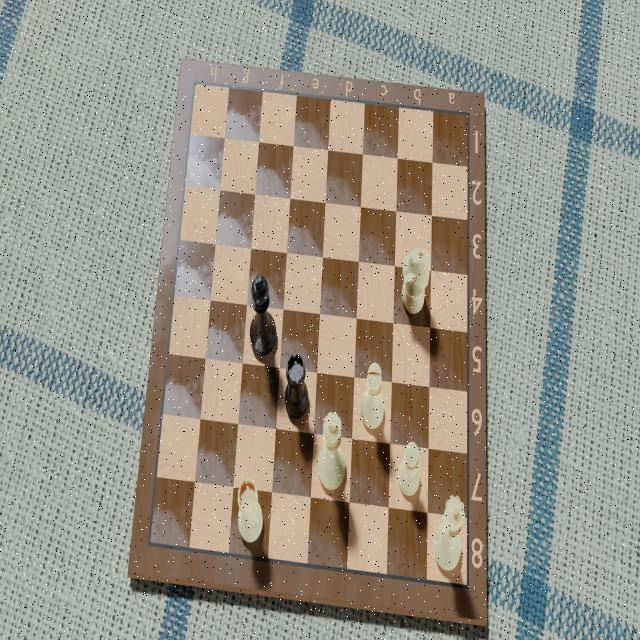black-king: (246, 271, 277, 360)
black-rook: (282, 352, 310, 420)
white-bishop: (360, 357, 388, 435)
white-king: (313, 408, 346, 496)
white-knight: (400, 243, 432, 320)
white-pawn: (396, 436, 424, 499)
white-queen: (433, 492, 468, 580)
white-rook: (233, 476, 267, 551)
